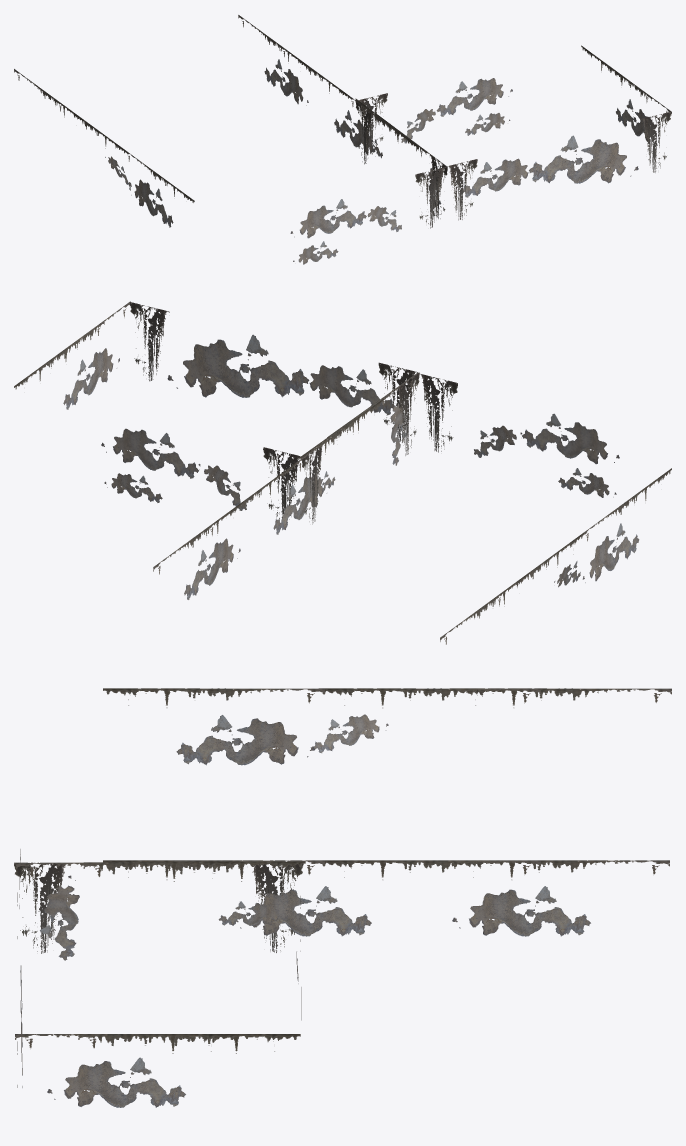
Rendered from Manchas.fbx.
3 renders of one model, top to bottom at view 1: azimuth 30°, elevation 25°; view 2: azimuth 150°, elevation 25°; view 3: azimuth 270°, elevation 25°, orthographic. The views are drawn at different scales.
Visible parts, largest first — view 1: ManchaPared; view 2: ManchaPared; view 3: ManchaPared.
Part boxes in pixels (x1,y1,x2,y2): ManchaPared: [14, 15, 671, 264]; ManchaPared: [14, 301, 671, 644]; ManchaPared: [14, 688, 671, 1107].
Bounding box in the file's own units: 1002 × 198 × 804.
3 materials, 3 textured.
